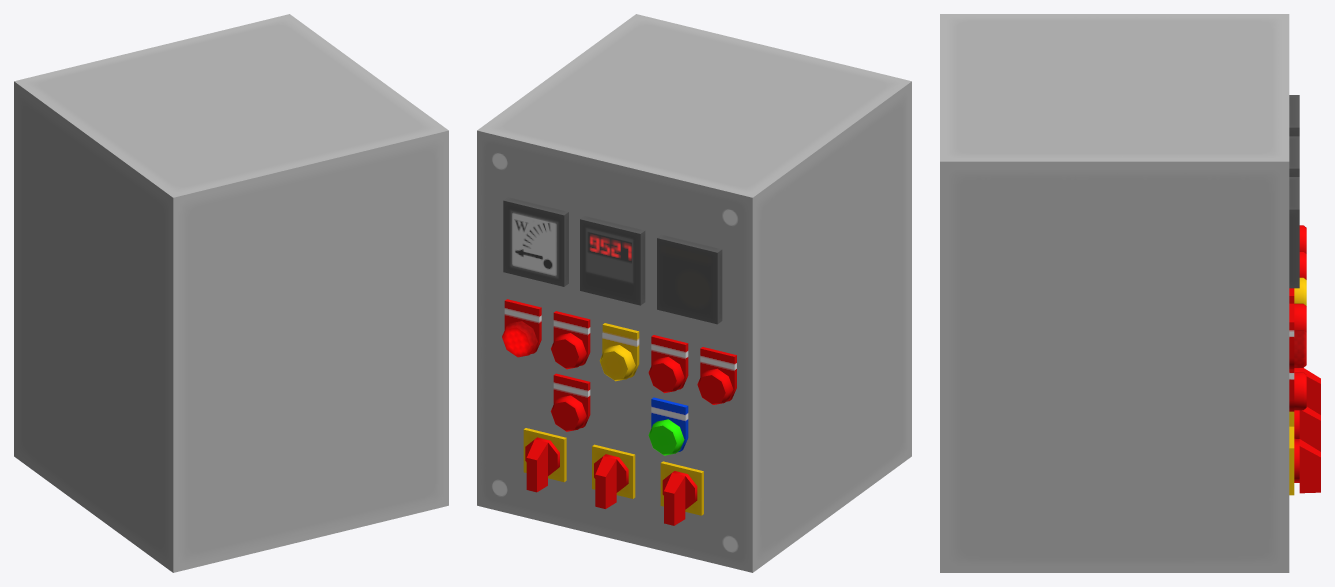
File: Pfb_ElectricControlBox__7.fbx
3 renders of one model, left to right at view 1: azimuth 30°, elevation 25°; view 2: azimuth 150°, elevation 25°; view 3: azimuth 270°, elevation 25°, orthographic. The views are drawn at different scales.
Visible parts, largest first — view 1: MAT_ElectricControlBox; view 2: MAT_ElectricControlBox; view 3: MAT_ElectricControlBox.
Part boxes in pixels (<box>): MAT_ElectricControlBox: <box>14,14,448,572</box>; MAT_ElectricControlBox: <box>477,14,911,572</box>; MAT_ElectricControlBox: <box>940,14,1320,572</box>.
Bounding box in the file's own units: 1 × 1.3 × 1.09.
Materials: 1 (1 with a texture image).
